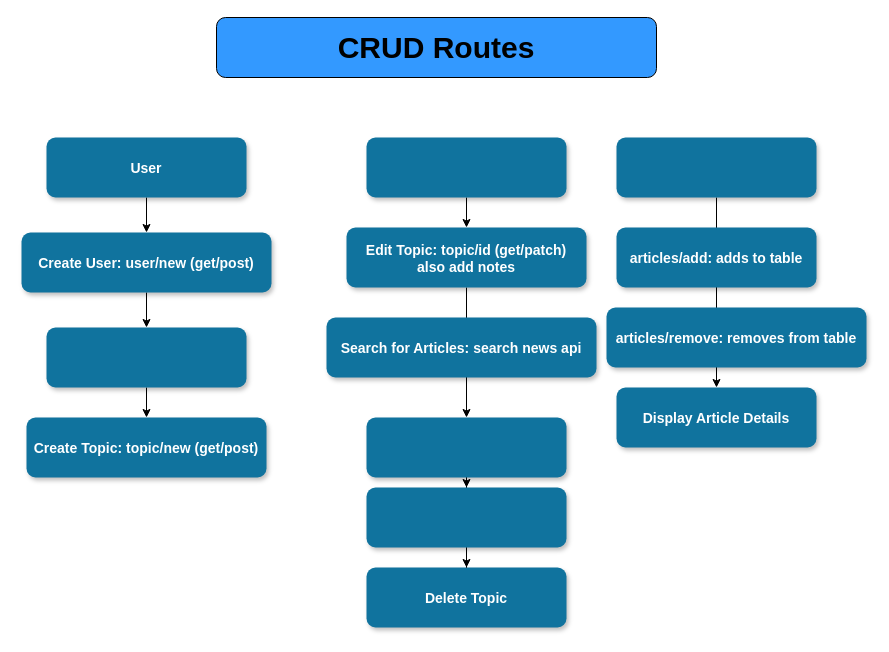
This 889x652 diagram has some shape labels left out. Here are the shapes that lost their labels. From the top down, the centre of each, then its label:
the point at 467,168: Topic
the point at 717,168: Articles
the point at 147,358: Delete User: user/id (delete)
the point at 467,448: topics/index: shows all topics
the point at 467,518: topics/id: show topic detail
